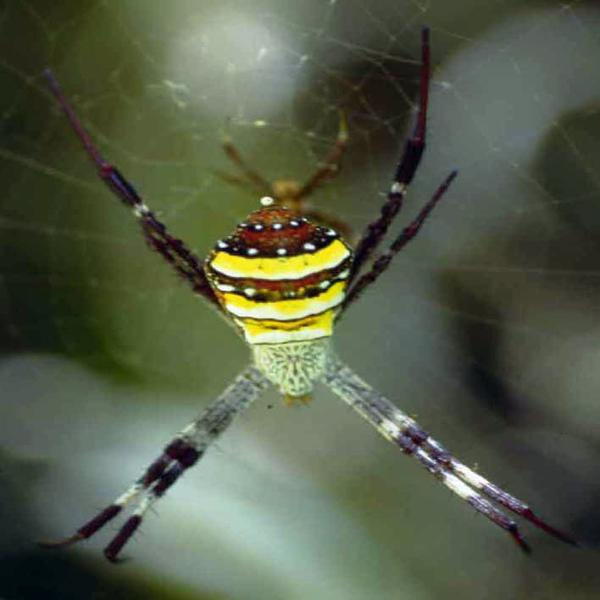St Andrew's Cross Spider: (58, 47, 543, 562)
